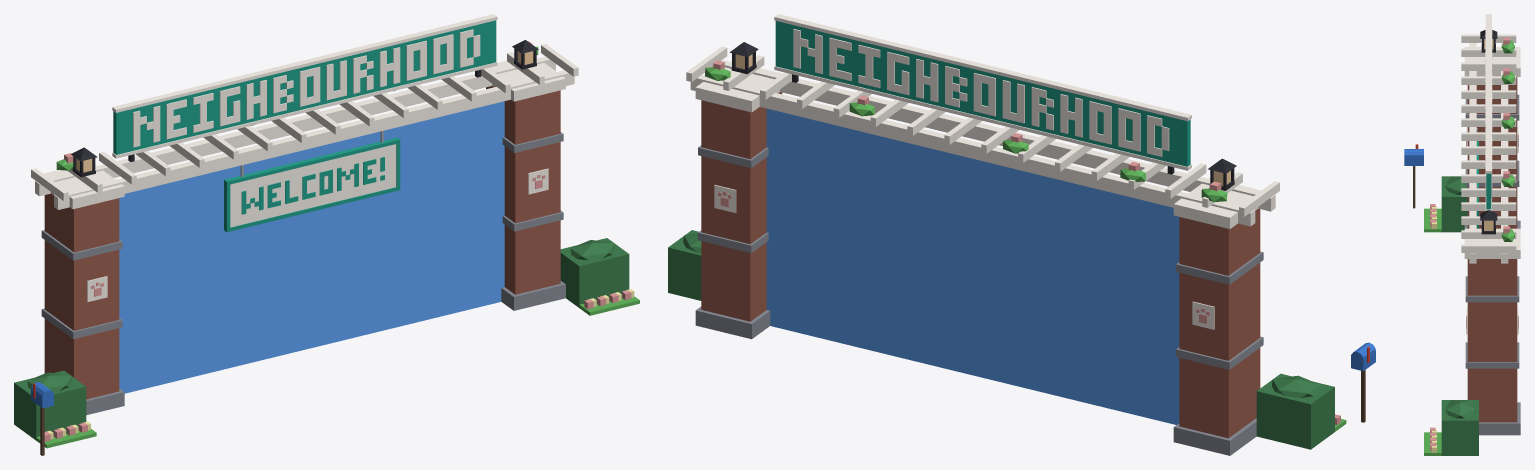
Rendered from CatCafe_Neighbourhood_GateF85.glb.
The picture shows the model from 3 angles, left to right: view 1: azimuth 30°, elevation 25°; view 2: azimuth 150°, elevation 25°; view 3: azimuth 270°, elevation 25°; orthographic projection. The views are drawn at different scales.
Visible parts, largest first — view 1: CatCafe_Neighbourhood_GateF85, CatCafe_Neighbourhood_GateF85_Bars, CatCafe_Neighbourhood_GateF85_SignBoard, CatCafe_Neighbourhood_GateF85_Flowers; view 2: CatCafe_Neighbourhood_GateF85_Bars, CatCafe_Neighbourhood_GateF85; view 3: CatCafe_Neighbourhood_GateF85, CatCafe_Neighbourhood_GateF85_Flowers, CatCafe_Neighbourhood_GateF85_Lamp_Bulb.
Part boxes in pixels (box(x1,y1,x2,y2)): CatCafe_Neighbourhood_GateF85: box(14, 14, 629, 455); CatCafe_Neighbourhood_GateF85_Bars: box(119, 101, 504, 393); CatCafe_Neighbourhood_GateF85_SignBoard: box(230, 144, 396, 227); CatCafe_Neighbourhood_GateF85_Flowers: box(36, 41, 639, 448); CatCafe_Neighbourhood_GateF85_Bars: box(766, 108, 1179, 424); CatCafe_Neighbourhood_GateF85: box(668, 14, 1375, 455); CatCafe_Neighbourhood_GateF85: box(1404, 14, 1520, 455); CatCafe_Neighbourhood_GateF85_Flowers: box(1424, 37, 1509, 455); CatCafe_Neighbourhood_GateF85_Lamp_Bulb: box(1484, 39, 1493, 230).
Size of the model in its own units: 36.62 by 16.4 by 7.15.
1 material, 1 textured.
